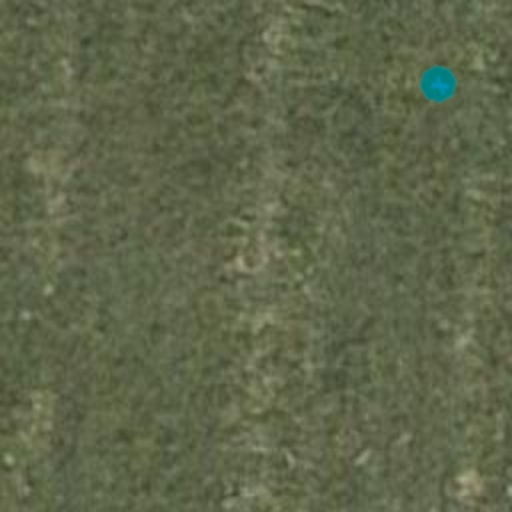octagon: (410, 56, 466, 112)
